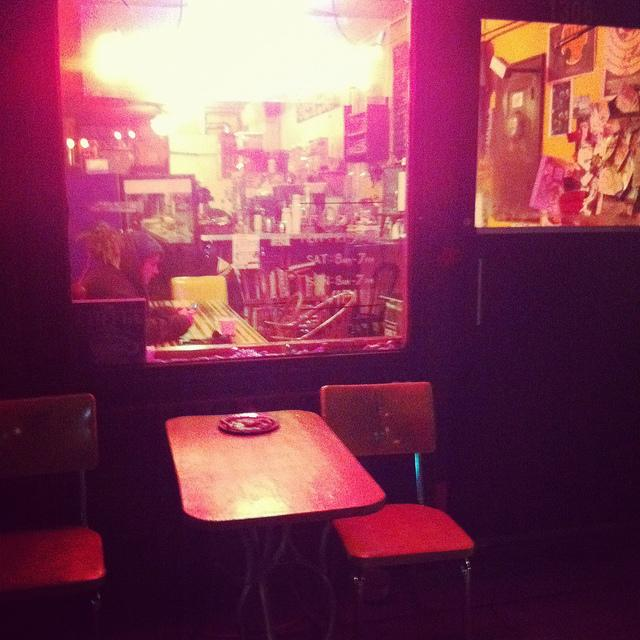Table: (157, 369, 388, 623)
chair: (305, 359, 501, 593), (0, 371, 132, 609)
